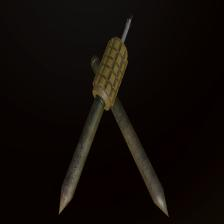POMZ2: (52, 15, 144, 216)
